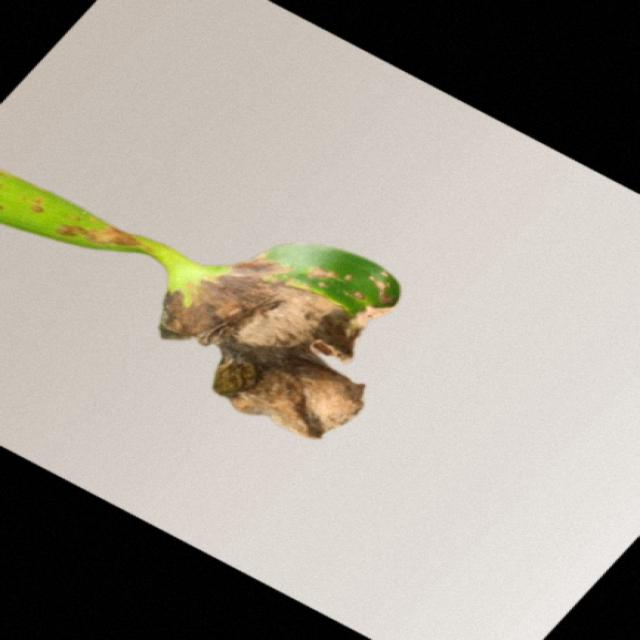daun berpenyakit bercak: (0, 171, 400, 438)
